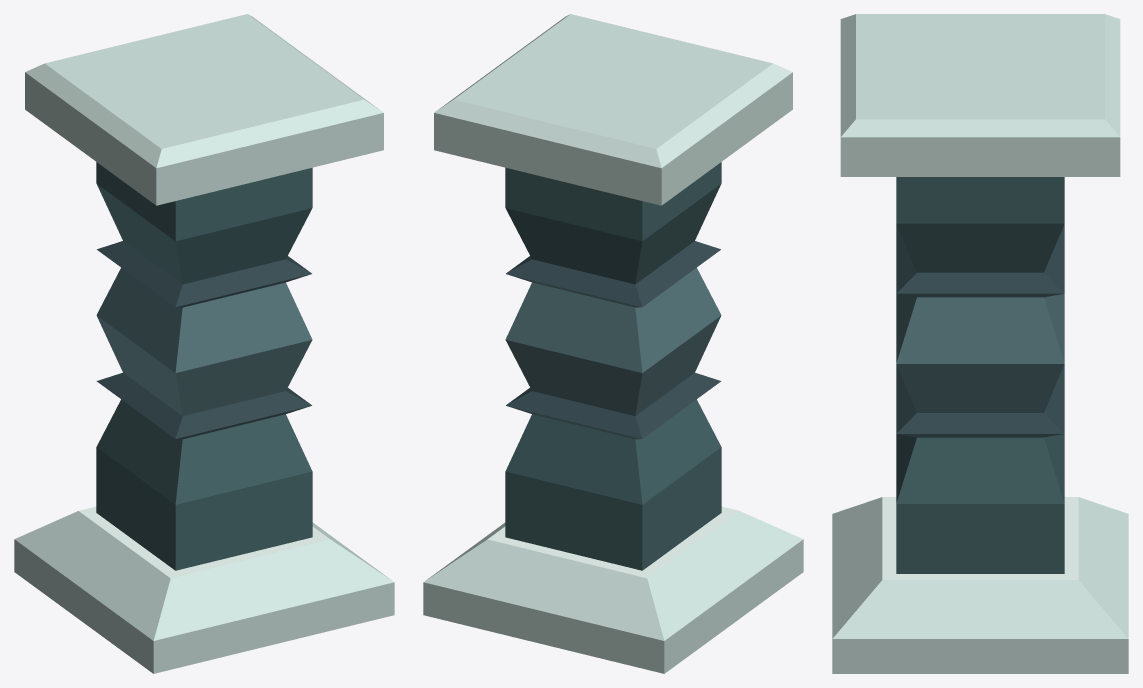
The model's file is pedestal.glb.
The picture shows the model from 3 angles, left to right: view 1: azimuth 30°, elevation 25°; view 2: azimuth 150°, elevation 25°; view 3: azimuth 270°, elevation 25°; orthographic projection. The views are drawn at different scales.
Parts seen in each view (by area): view 1: pedestal; view 2: pedestal; view 3: pedestal.
Boxes of the visible parts, left/top/right/bottom form: pedestal: left=14, top=14, right=394, bottom=673; pedestal: left=423, top=14, right=803, bottom=673; pedestal: left=832, top=14, right=1128, bottom=673.
Size of the model in its own units: 0.5 by 1.02 by 0.5.
1 material, 1 textured.
